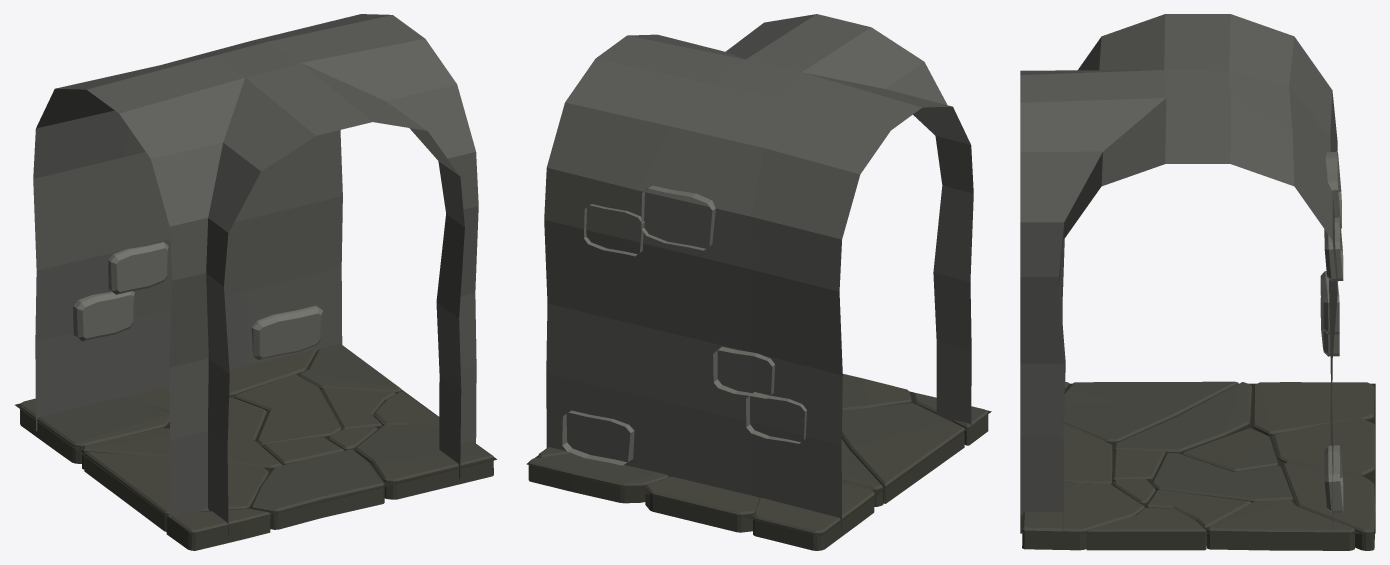
The model's file is Hallway_TCrossing.glb.
The picture shows the model from 3 angles, left to right: view 1: azimuth 30°, elevation 25°; view 2: azimuth 150°, elevation 25°; view 3: azimuth 270°, elevation 25°; orthographic projection. The views are drawn at different scales.
Parts seen in each view (by area): view 1: Hallway_TCrossing.001; view 2: Hallway_TCrossing.001; view 3: Hallway_TCrossing.001.
Boxes of the visible parts, x1=… form: Hallway_TCrossing.001: x1=15, y1=14, x2=496, y2=550; Hallway_TCrossing.001: x1=526, y1=14, x2=991, y2=550; Hallway_TCrossing.001: x1=1020, y1=14, x2=1375, y2=550.
Bounding box in the file's own units: 2 × 2.45 × 2.
2 materials, 2 textured.
